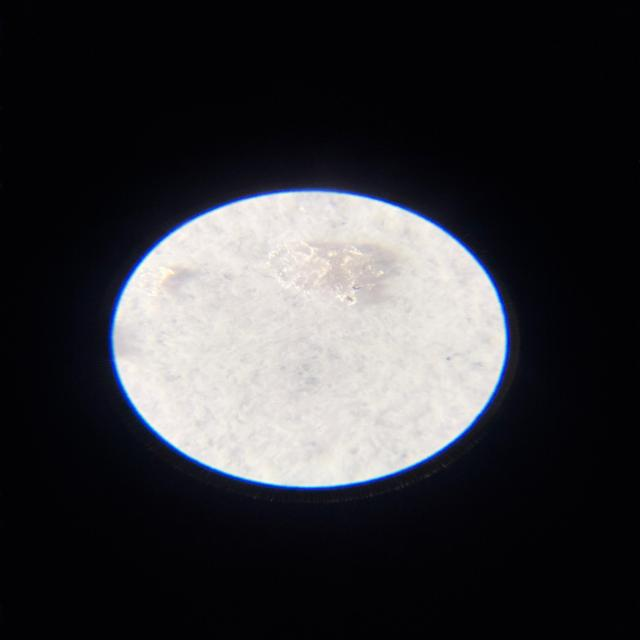microplastic_type_1: (267, 241, 397, 305), (135, 264, 191, 309)
